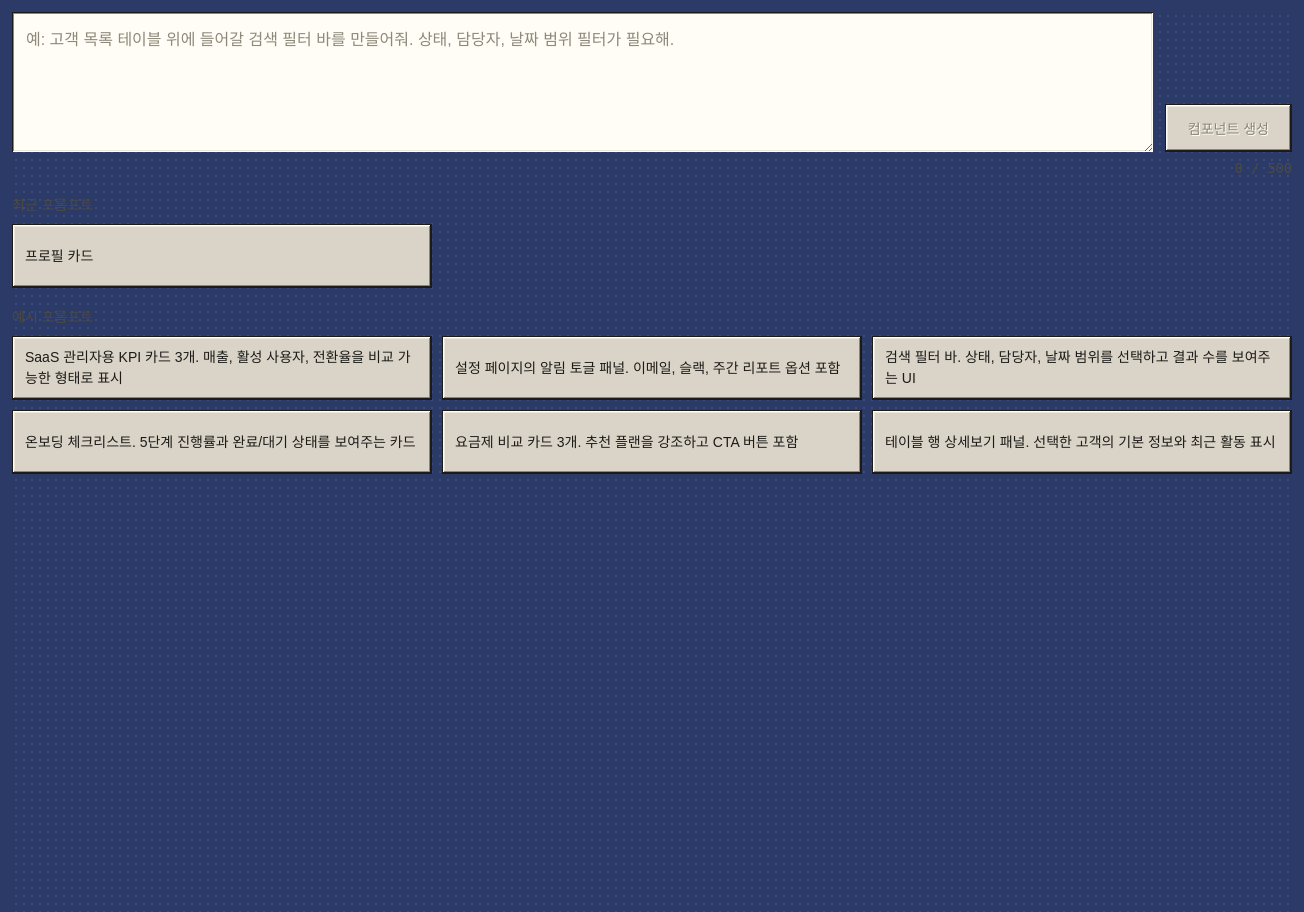
Test: PromptInput › 히스토리 › 히스토리 항목을 누르면 입력창에 채워진다
The width and height of the screenshot is (1304, 912).
Click the button "프로필 카드". click: click(59, 256)
box: [12,224,432,288]
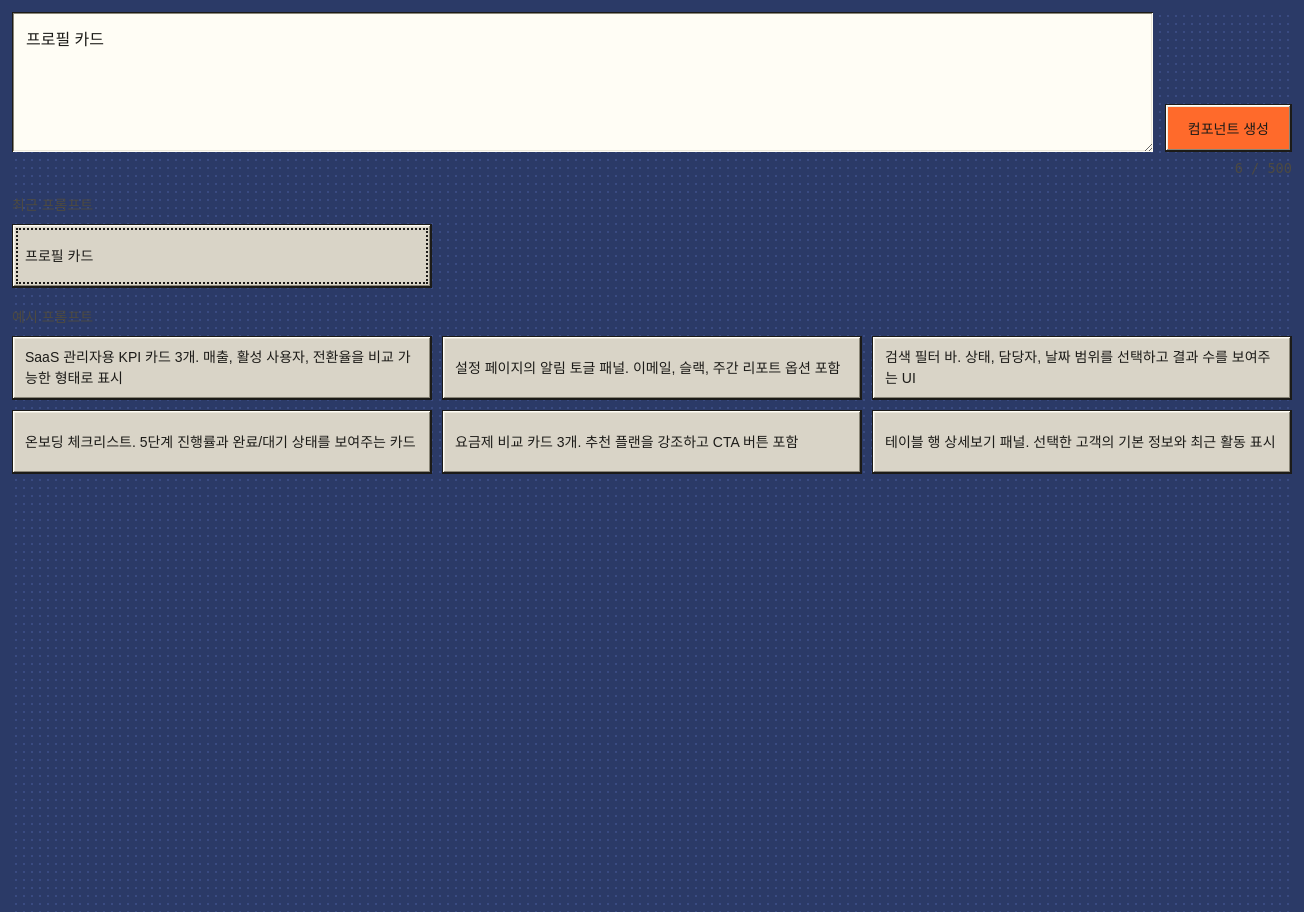
Now the text box holds "프로필 카드", box [12,12,1153,152]
